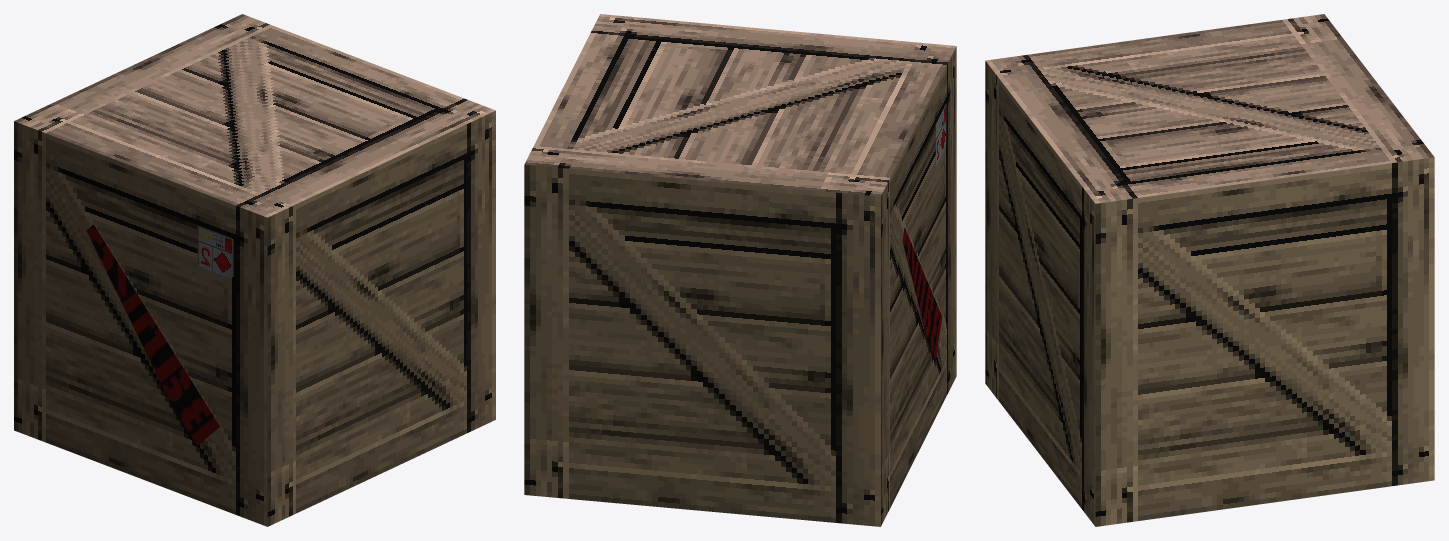
File: primary_040.glb
3 views of the same model, side by side, from view 1: azimuth 30°, elevation 25°; view 2: azimuth 150°, elevation 25°; view 3: azimuth 270°, elevation 25° (orthographic). The views are drawn at different scales.
Parts seen in each view (by area): view 1: Object; view 2: Object; view 3: Object.
Boxes of the visible parts, x1=… form: Object: x1=14, y1=14, x2=495, y2=526; Object: x1=524, y1=14, x2=956, y2=526; Object: x1=985, y1=14, x2=1434, y2=526.
Size of the model in its own units: 1.2 by 0.9501 by 1.2.
7 materials, 7 textured.
